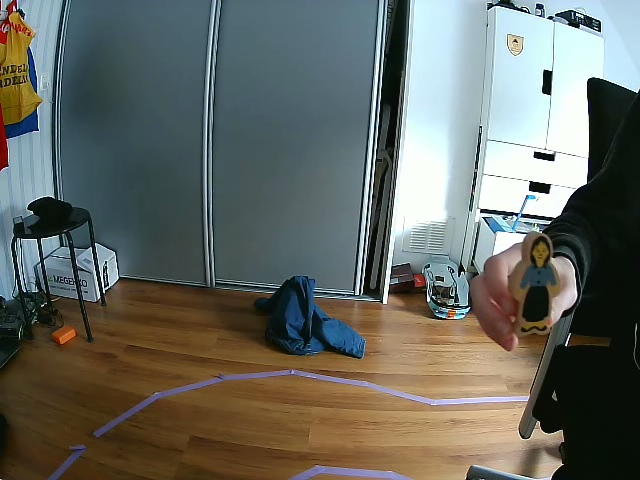mens: (511, 231, 560, 336)
